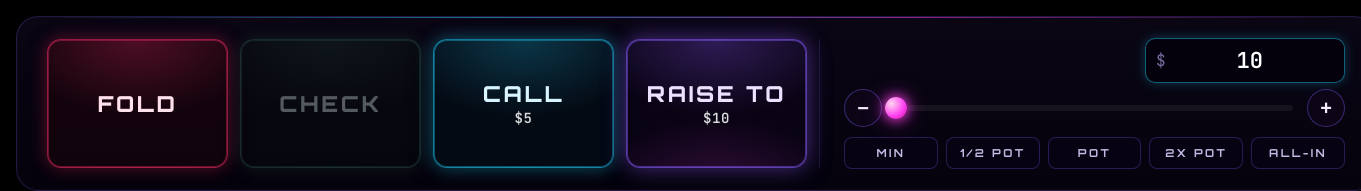
Scenario: ActionBar › quick buttons update raise amount
(page scrolled)
Click the button "1/2 POT".
click(993, 153)  # box [946,137,1040,169]
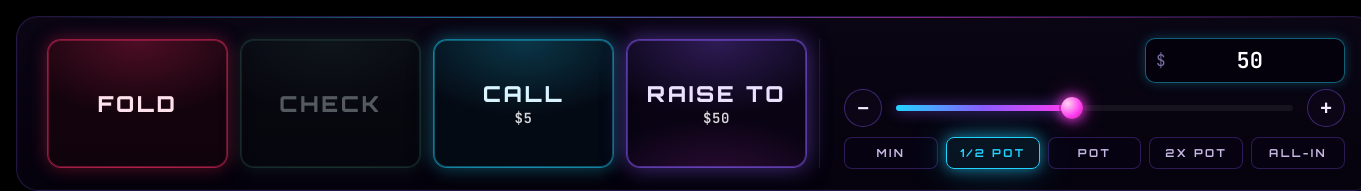
Now the button "RAISE TO $50" is shown, box [626,39,807,168]
